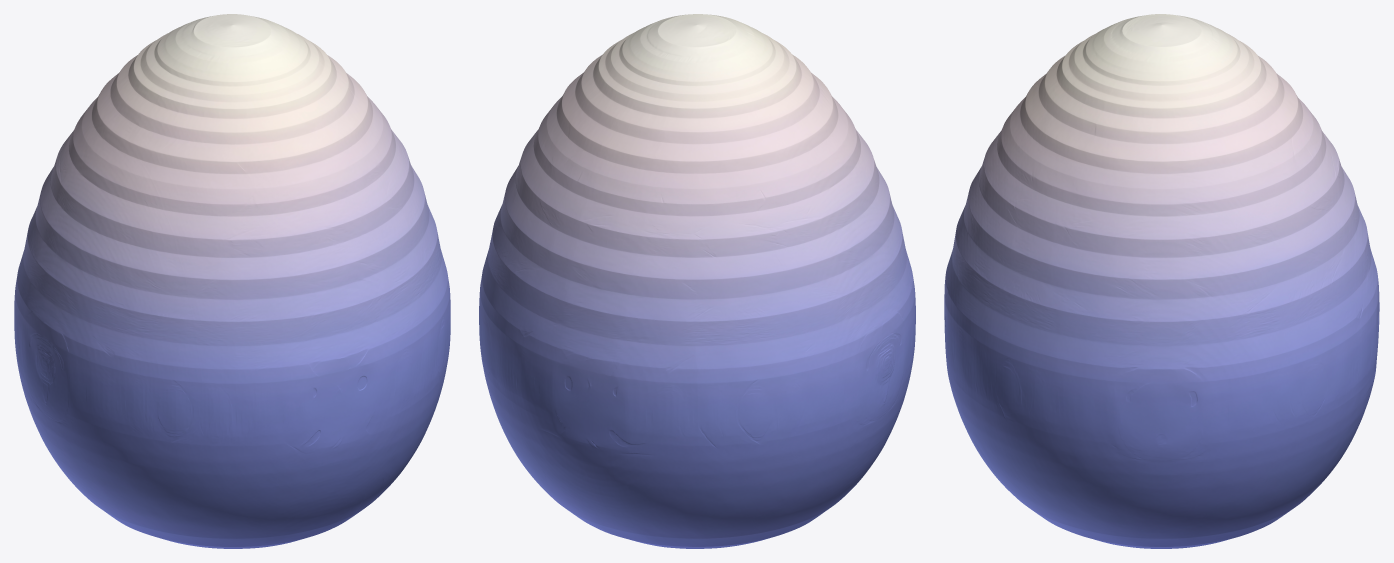
File: egg_3d_model.glb
3 views of the same model, side by side, from view 1: azimuth 30°, elevation 25°; view 2: azimuth 150°, elevation 25°; view 3: azimuth 270°, elevation 25° (orthographic).
Visible parts, largest first — view 1: tripo_node_1c86e1e4-024c-44b2-9f32-f01b6eaf0cb1; view 2: tripo_node_1c86e1e4-024c-44b2-9f32-f01b6eaf0cb1; view 3: tripo_node_1c86e1e4-024c-44b2-9f32-f01b6eaf0cb1.
Part boxes in pixels (box(x1,y1,x2,y2)): tripo_node_1c86e1e4-024c-44b2-9f32-f01b6eaf0cb1: box(14, 14, 450, 548); tripo_node_1c86e1e4-024c-44b2-9f32-f01b6eaf0cb1: box(479, 14, 915, 548); tripo_node_1c86e1e4-024c-44b2-9f32-f01b6eaf0cb1: box(944, 14, 1379, 548).
Bounding box in the file's own units: 0.7898 × 0.9809 × 0.7895.
Materials: 1 (1 with a texture image).
